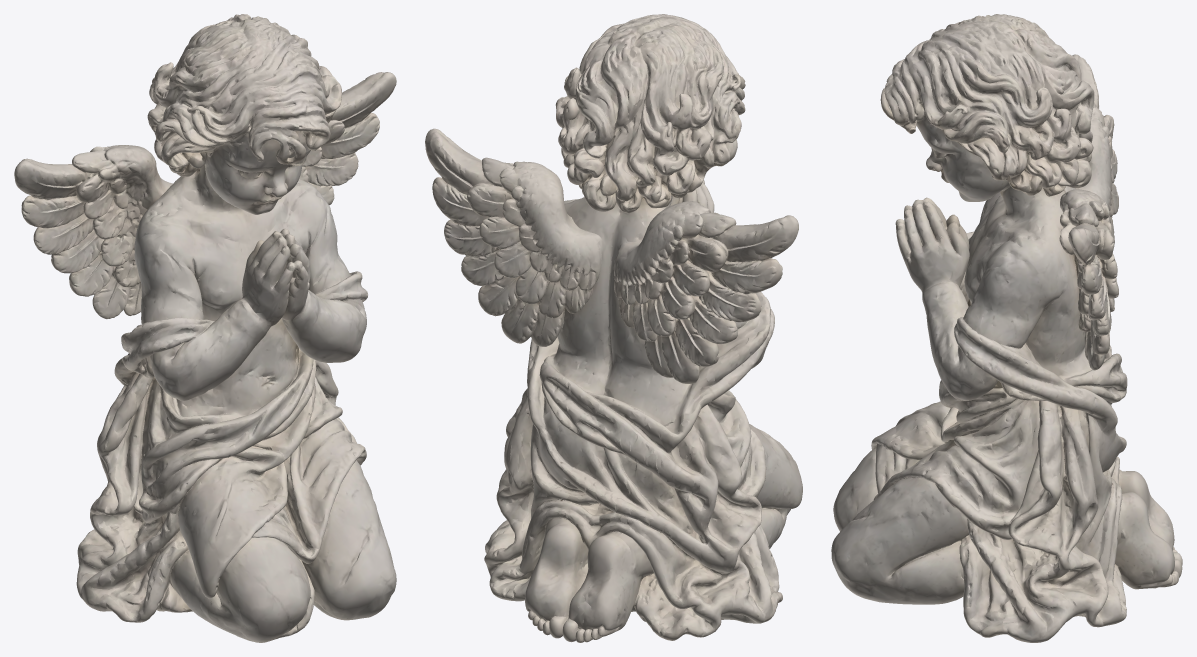
The model's file is cherub-hero-v2-300k.glb.
3 views of the same model, side by side, from view 1: azimuth 30°, elevation 25°; view 2: azimuth 150°, elevation 25°; view 3: azimuth 270°, elevation 25° (orthographic). The views are drawn at different scales.
Visible parts, largest first — view 1: model; view 2: model; view 3: model.
Boxes of the visible parts, bbox=[...] form: model: bbox=[14, 14, 396, 642]; model: bbox=[425, 14, 802, 642]; model: bbox=[831, 14, 1182, 642].
Size of the model in its own units: 1.33 by 1.89 by 1.08.
1 material, 1 textured.
